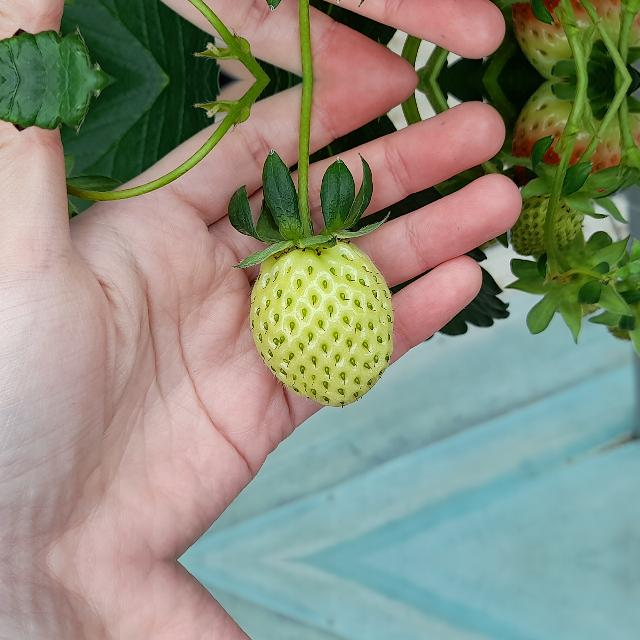Health_25: (249, 239, 393, 406), (516, 180, 580, 274)
Health_75: (511, 80, 639, 184), (511, 0, 639, 80)
